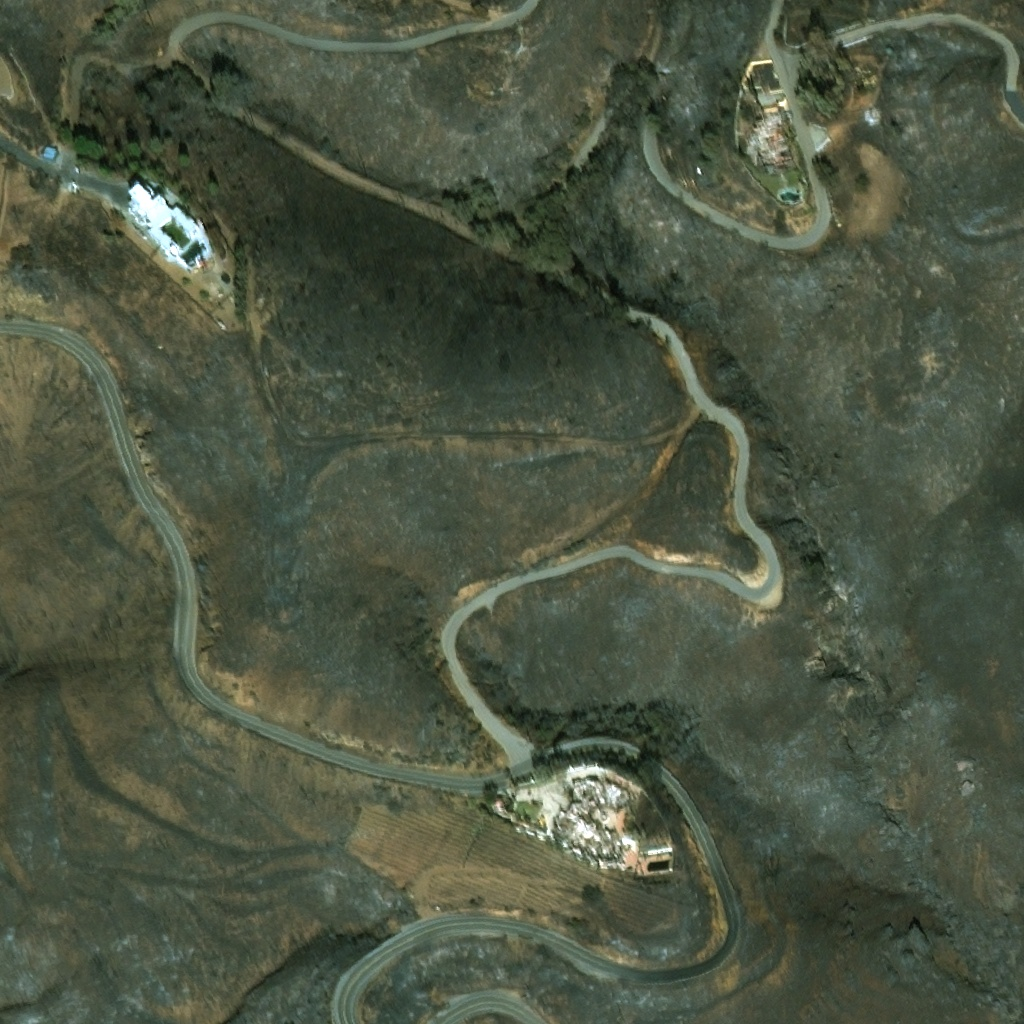0 no-damage: (128, 180, 198, 254), (41, 145, 57, 159)
2 major-damage: (494, 799, 510, 810), (867, 101, 874, 114)
3 destroyed: (552, 802, 617, 853), (752, 100, 796, 173), (570, 781, 627, 809)
